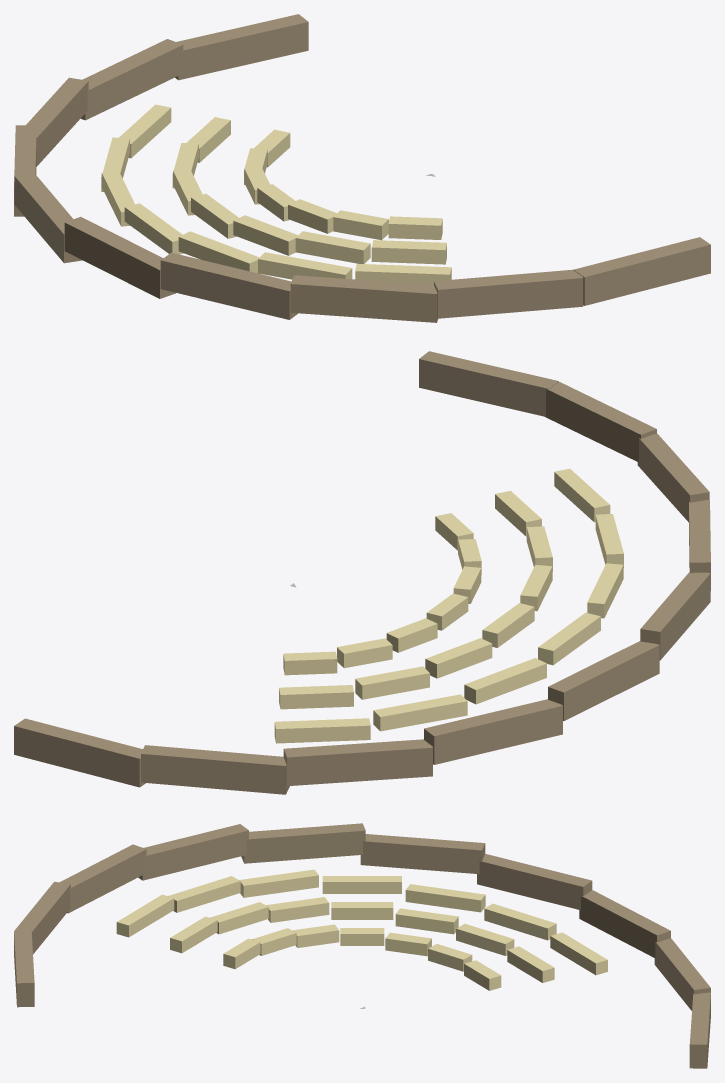
The model's file is altovista_plaza.glb.
3 renders of one model, top to bottom at view 1: azimuth 30°, elevation 25°; view 2: azimuth 150°, elevation 25°; view 3: azimuth 270°, elevation 25°, orthographic. The views are drawn at different scales.
Visible parts, largest first — view 1: altovista_plaza_lod0; view 2: altovista_plaza_lod0; view 3: altovista_plaza_lod0.
Part boxes in pixels (<box>): altovista_plaza_lod0: <box>14,14,710,322</box>; altovista_plaza_lod0: <box>14,351,710,794</box>; altovista_plaza_lod0: <box>14,823,710,1068</box>.
Size of what is drawn, in the model's own units: 14.43 by 3.18 by 23.7.
